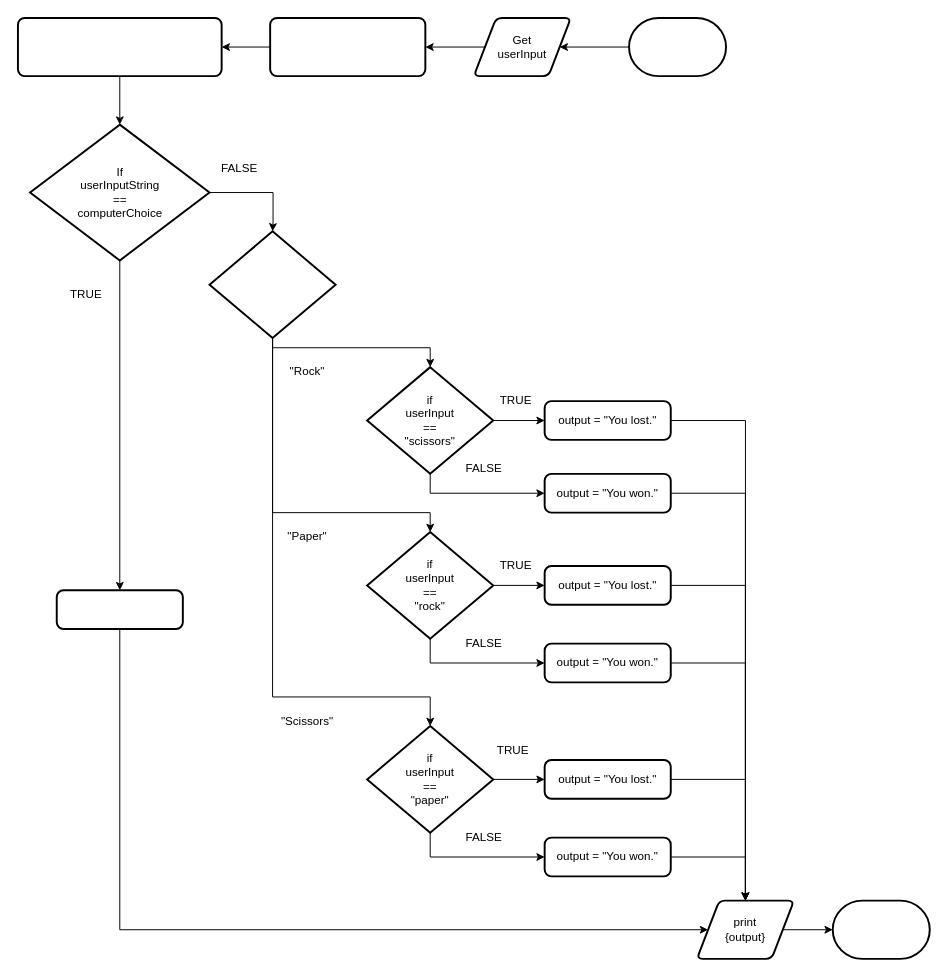
This 947x976 diagram has some shape labels left out. The centre of each missing label's shape, as x and y in pixels:
computerChoice = computerOptions[ Math.floor(Math.random() * 3)]: (x=119, y=46)
computerOptions = ["rock", "paper", "scissors"]: (x=347, y=46)
If computerChoice: (x=272, y=284)
output = "You tied.": (x=119, y=609)
Start: (x=677, y=46)
Stop: (x=880, y=929)
